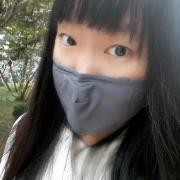WRONG: (51, 21, 153, 135)
